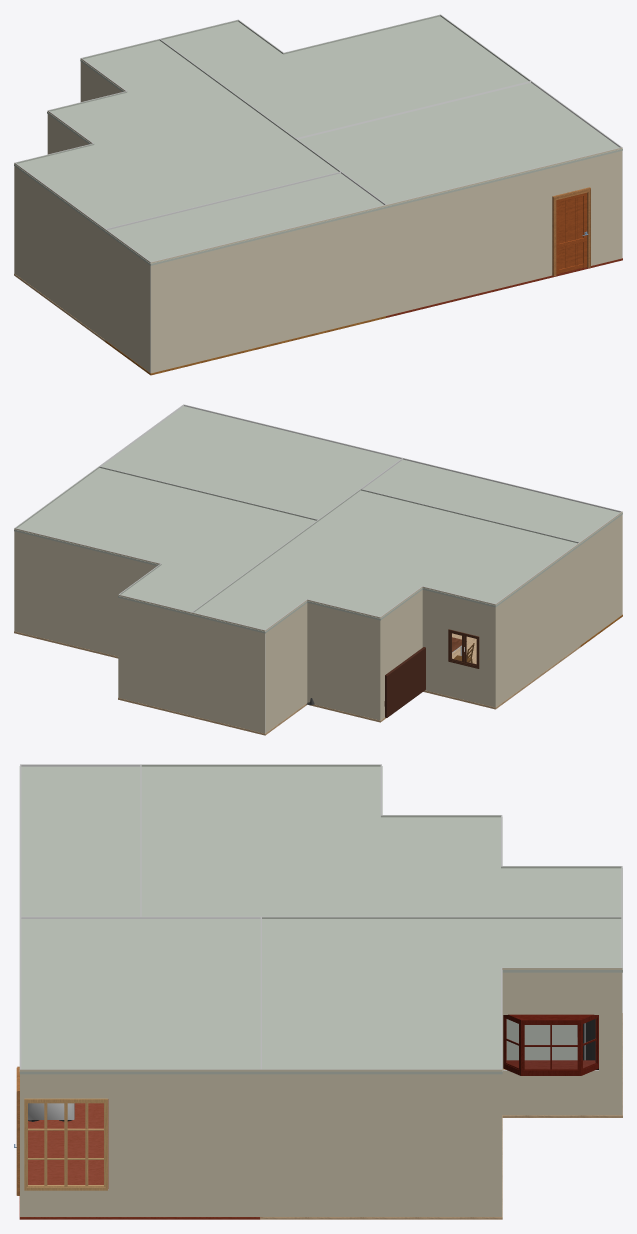
The model's file is ProcTHOR-Train-169.glb.
The picture shows the model from 3 angles, top to bottom: view 1: azimuth 30°, elevation 25°; view 2: azimuth 150°, elevation 25°; view 3: azimuth 270°, elevation 25°; orthographic projection. The views are drawn at different scales.
Visible parts, largest first — view 1: Ceiling#room|4|c, WallInside#wall|exterior|6.55|10.91|13.09|10.91, Ceiling#room|6|c, WallInside#wall|exterior|0.00|10.91|6.55|10.91, Ceiling#room|7|c, Ceiling#room|5|c, WallInside#wall|exterior|13.09|4.37|13.09|8.73, WallInside#wall|exterior|13.09|8.73|13.09|10.91, Doorway_10, WallInside#wall|exterior|8.73|0.00|8.73|2.18, WallInside#wall|exterior|10.91|2.18|10.91|4.37, Floor#room|5|f (+3 smaller); view 2: Ceiling#room|4|c, Ceiling#room|6|c, Ceiling#room|7|c, WallInside#wall|exterior|0.00|2.18|4.37|2.18, Ceiling#room|5|c, WallInside#wall|exterior|13.09|4.37|13.09|8.73, WallInside#wall|exterior|4.37|0.00|6.55|0.00, WallInside#wall|exterior|6.55|0.00|8.73|0.00, WallInside#wall|exterior|8.73|2.18|10.91|2.18, WallInside#wall|exterior|10.91|4.37|13.09|4.37, WallInside#wall|exterior|13.09|8.73|13.09|10.91, WallInside#wall|exterior|8.73|0.00|8.73|2.18 (+8 smaller); view 3: Ceiling#room|4|c, Ceiling#room|6|c, Ceiling#room|7|c, WallInside#wall|exterior|0.00|2.18|0.00|6.55, WallInside#wall|exterior|0.00|6.55|0.00|10.91, Ceiling#room|5|c, WallInside#wall|exterior|4.37|0.00|4.37|2.18, Floor#room|7|f, Window_Bay_2, WallInside#wall|6|6.55|0.00|6.55|6.55, Window_Fixed_60x72, Floor#room|6|f (+2 smaller).
Boxes of the visible parts, box(x1,y1,x2,y2) form: Ceiling#room|4|c: box(14, 40, 340, 232); WallInside#wall|exterior|6.55|10.91|13.09|10.91: box(151, 205, 386, 373); Ceiling#room|6|c: box(162, 16, 530, 139); WallInside#wall|exterior|0.00|10.91|6.55|10.91: box(386, 147, 622, 315); Ceiling#room|7|c: box(298, 83, 622, 208); Ceiling#room|5|c: box(105, 173, 387, 265); WallInside#wall|exterior|13.09|4.37|13.09|8.73: box(14, 163, 105, 339); WallInside#wall|exterior|13.09|8.73|13.09|10.91: box(105, 229, 150, 373); Doorway_10: box(552, 187, 590, 276); WallInside#wall|exterior|8.73|0.00|8.73|2.18: box(80, 58, 126, 101); WallInside#wall|exterior|10.91|2.18|10.91|4.37: box(47, 110, 92, 154); Floor#room|5|f: box(104, 316, 387, 375); Ceiling#room|4|c: box(191, 490, 580, 633); Ceiling#room|6|c: box(14, 468, 318, 615); Ceiling#room|7|c: box(101, 406, 400, 520); WallInside#wall|exterior|0.00|2.18|4.37|2.18: box(14, 528, 160, 656); Ceiling#room|5|c: box(363, 459, 622, 544); WallInside#wall|exterior|13.09|4.37|13.09|8.73: box(495, 542, 579, 706); WallInside#wall|exterior|4.37|0.00|6.55|0.00: box(118, 594, 191, 715); WallInside#wall|exterior|6.55|0.00|8.73|0.00: box(191, 612, 264, 733); WallInside#wall|exterior|8.73|2.18|10.91|2.18: box(307, 599, 380, 720); WallInside#wall|exterior|10.91|4.37|13.09|4.37: box(422, 586, 495, 707); WallInside#wall|exterior|13.09|8.73|13.09|10.91: box(580, 511, 622, 645); WallInside#wall|exterior|8.73|0.00|8.73|2.18: box(265, 600, 307, 733); Ceiling#room|4|c: box(140, 766, 622, 919); Ceiling#room|6|c: box(260, 919, 622, 1074); Ceiling#room|7|c: box(19, 919, 262, 1074); WallInside#wall|exterior|0.00|2.18|0.00|6.55: box(260, 1069, 502, 1216); WallInside#wall|exterior|0.00|6.55|0.00|10.91: box(20, 1069, 261, 1216); Ceiling#room|5|c: box(19, 766, 141, 919); WallInside#wall|exterior|4.37|0.00|4.37|2.18: box(502, 968, 622, 1115); Floor#room|7|f: box(19, 1099, 261, 1219); Window_Bay_2: box(503, 1014, 598, 1075); WallInside#wall|6|6.55|0.00|6.55|6.55: box(261, 917, 621, 1060); Window_Fixed_60x72: box(24, 1098, 107, 1190); Floor#room|6|f: box(260, 1064, 622, 1219).
Size of what is drawn, in the model's own units: 13.15 by 3 by 11.05.
Materials: 273 (90 with a texture image).
